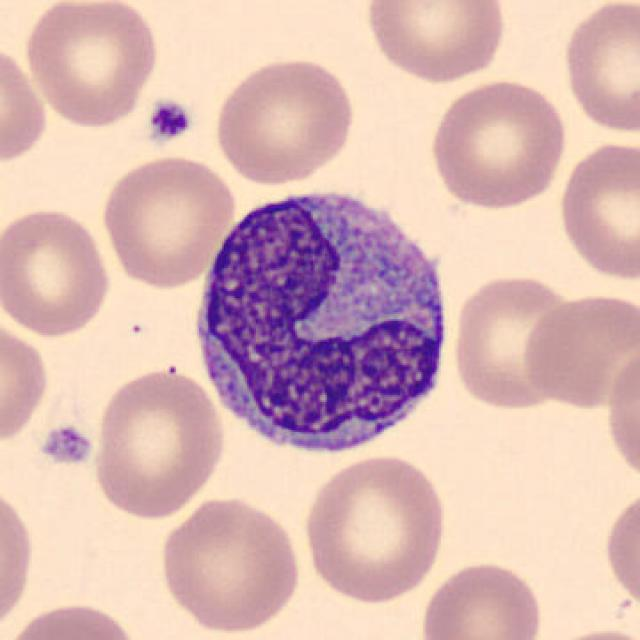Monocyte: (183, 174, 461, 470)
Platelets: (37, 422, 96, 468), (144, 96, 196, 146)
RBC: (298, 452, 449, 606), (89, 363, 227, 522), (155, 492, 304, 636), (210, 53, 359, 187), (448, 268, 585, 413), (425, 76, 571, 212), (98, 150, 236, 291), (21, 0, 162, 129), (0, 202, 114, 338), (519, 289, 637, 411), (361, 0, 510, 85), (555, 136, 638, 284), (558, 0, 638, 138), (416, 557, 548, 640), (0, 312, 53, 449), (0, 41, 50, 169), (0, 597, 144, 640), (0, 474, 37, 638), (601, 338, 640, 488), (601, 485, 638, 615), (530, 624, 638, 640)
